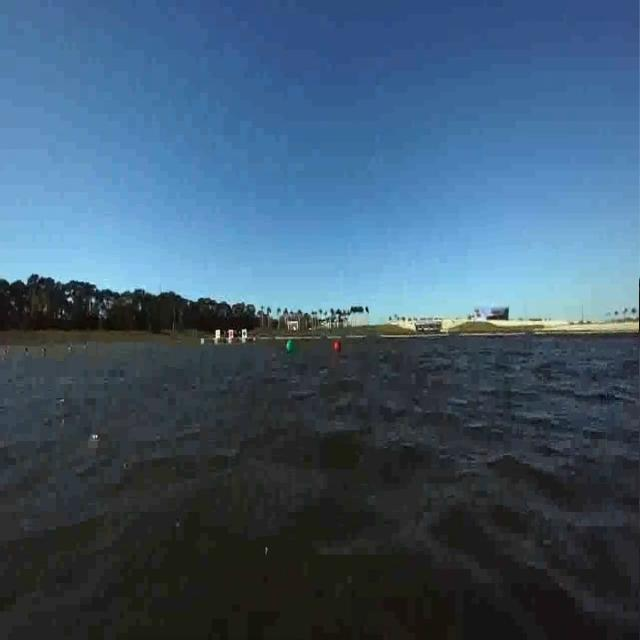green-buoy: (286, 340, 296, 354)
red-buoy: (334, 342, 343, 351)
